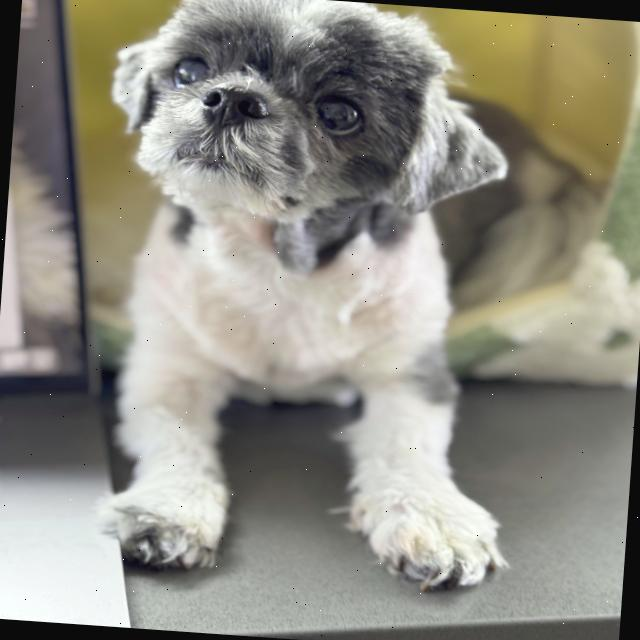shih_tzu_dog: (75, 0, 533, 265)
